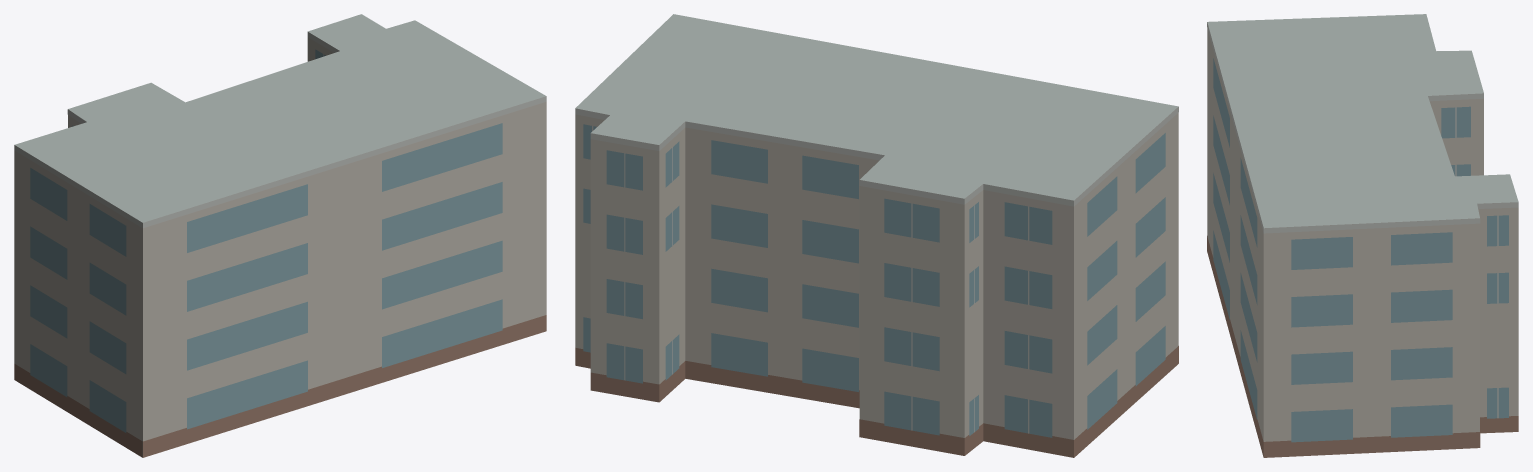
The model's file is survey-upis-32908990.glb.
3 views of the same model, side by side, from view 1: azimuth 30°, elevation 25°; view 2: azimuth 150°, elevation 25°; view 3: azimuth 270°, elevation 25° (orthographic). The views are drawn at different scales.
Parts seen in each view (by area): view 1: survey-upis-32908990.tmp; view 2: survey-upis-32908990.tmp; view 3: survey-upis-32908990.tmp.
Boxes of the visible parts, <box> form: survey-upis-32908990.tmp: <box>14,14,546,457</box>; survey-upis-32908990.tmp: <box>575,14,1178,457</box>; survey-upis-32908990.tmp: <box>1207,14,1518,457</box>.
Size of the model in its own units: 20.8 by 10.4 by 12.79.
